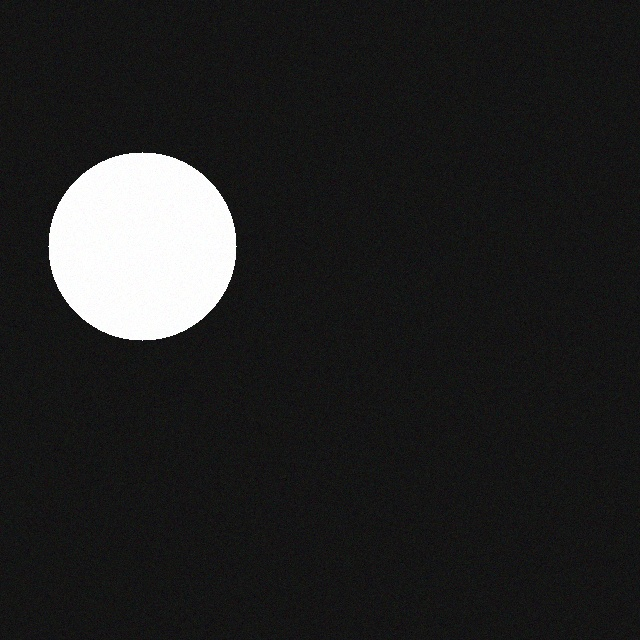circle: (54, 148, 242, 336)
